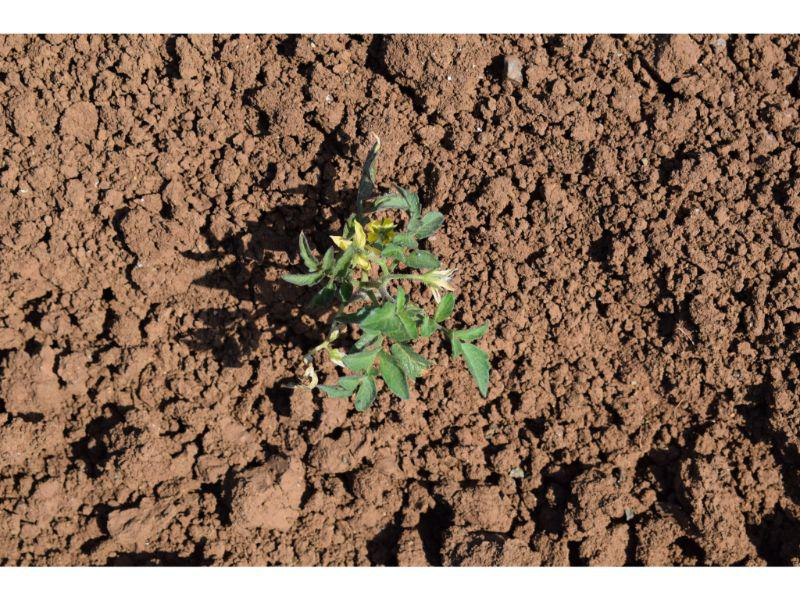tomato: (278, 151, 492, 410)
